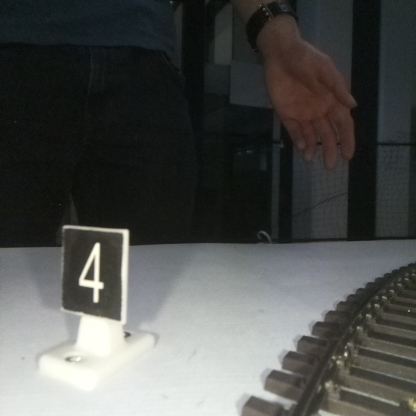black-stop-4: (63, 227, 123, 374)
